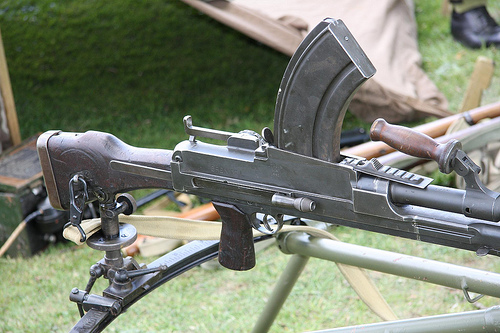rifle: (26, 80, 494, 330)
